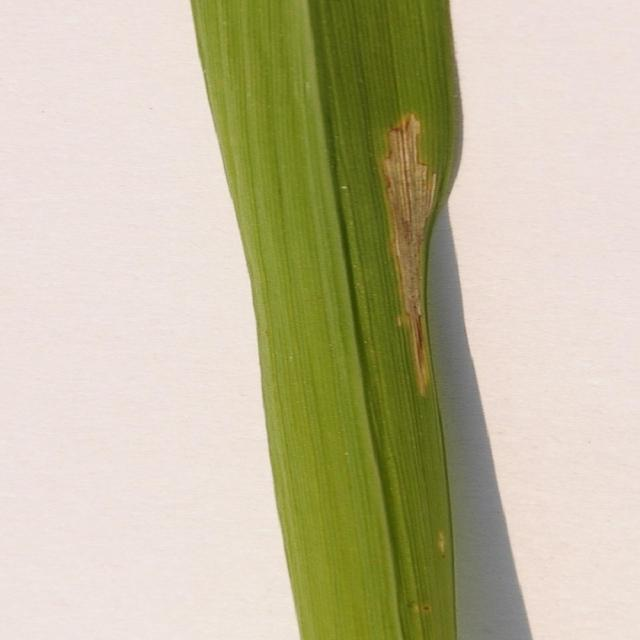Bacterial leaf blight: (158, 0, 524, 640)
